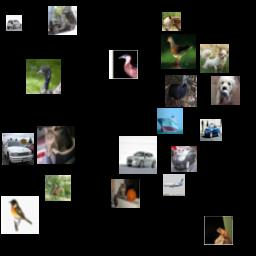airplane: (163, 174, 185, 196)
automobile: (119, 136, 157, 174), (2, 133, 34, 165), (171, 146, 197, 172), (200, 119, 222, 141), (6, 15, 22, 31)
bird: (1, 196, 39, 234), (161, 34, 196, 69), (26, 59, 61, 94), (165, 75, 197, 107), (109, 50, 138, 79)
cat: (37, 126, 75, 164), (111, 179, 140, 208)
deer: (45, 175, 71, 201)
dog: (200, 44, 229, 73), (211, 76, 240, 105)
frog: (204, 216, 233, 245)
ship: (157, 108, 183, 134)
truck: (48, 6, 77, 35)
